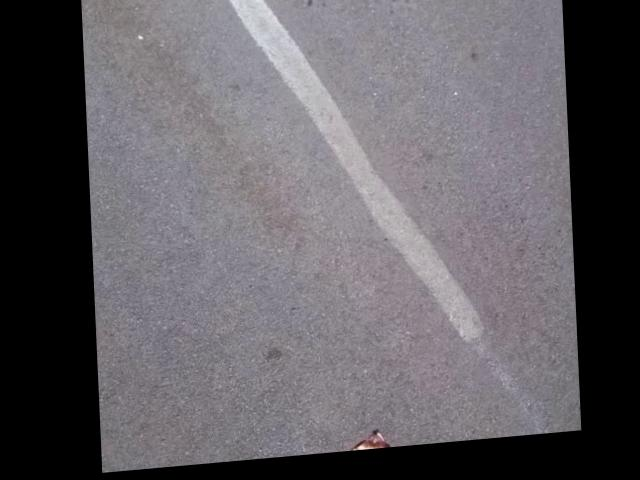fire-poster: (261, 432, 424, 463)
